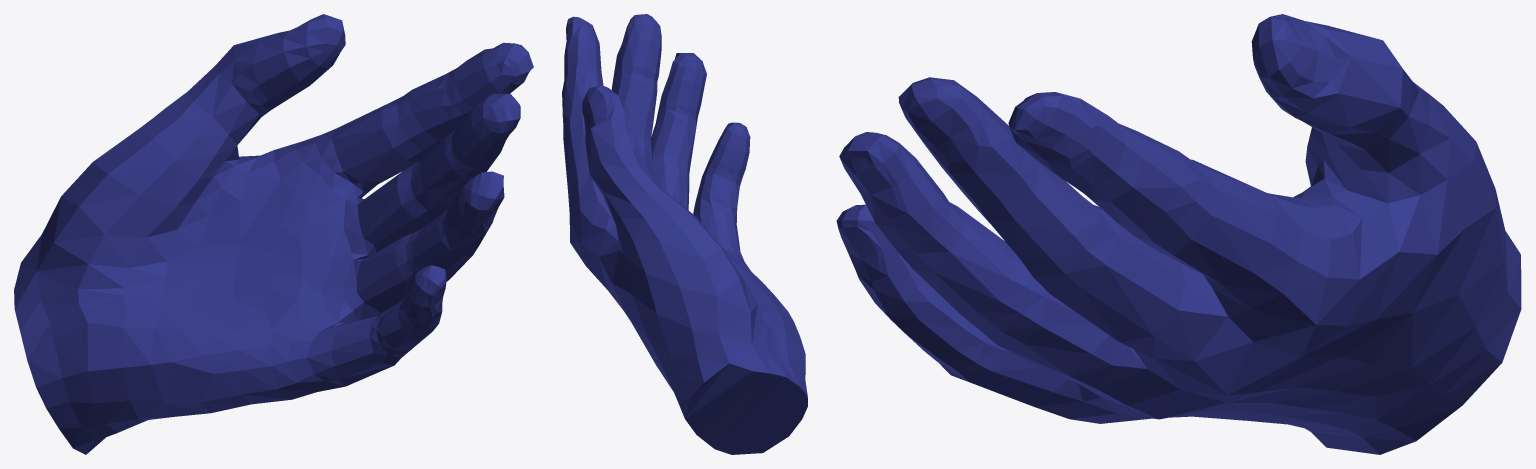
3 views of the same model, side by side, from view 1: azimuth 30°, elevation 25°; view 2: azimuth 150°, elevation 25°; view 3: azimuth 270°, elevation 25° (orthographic). The views are drawn at different scales.
Bounding box in the file's own units: 0.1402 × 0.1346 × 0.1406.
